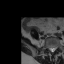CCS_normal: (51, 46, 53, 54)
LFS_normal: (55, 44, 57, 51)
LLS_normal: (53, 46, 55, 53)
RFS_normal: (47, 44, 49, 52)
RLS_normal: (49, 45, 51, 53)
